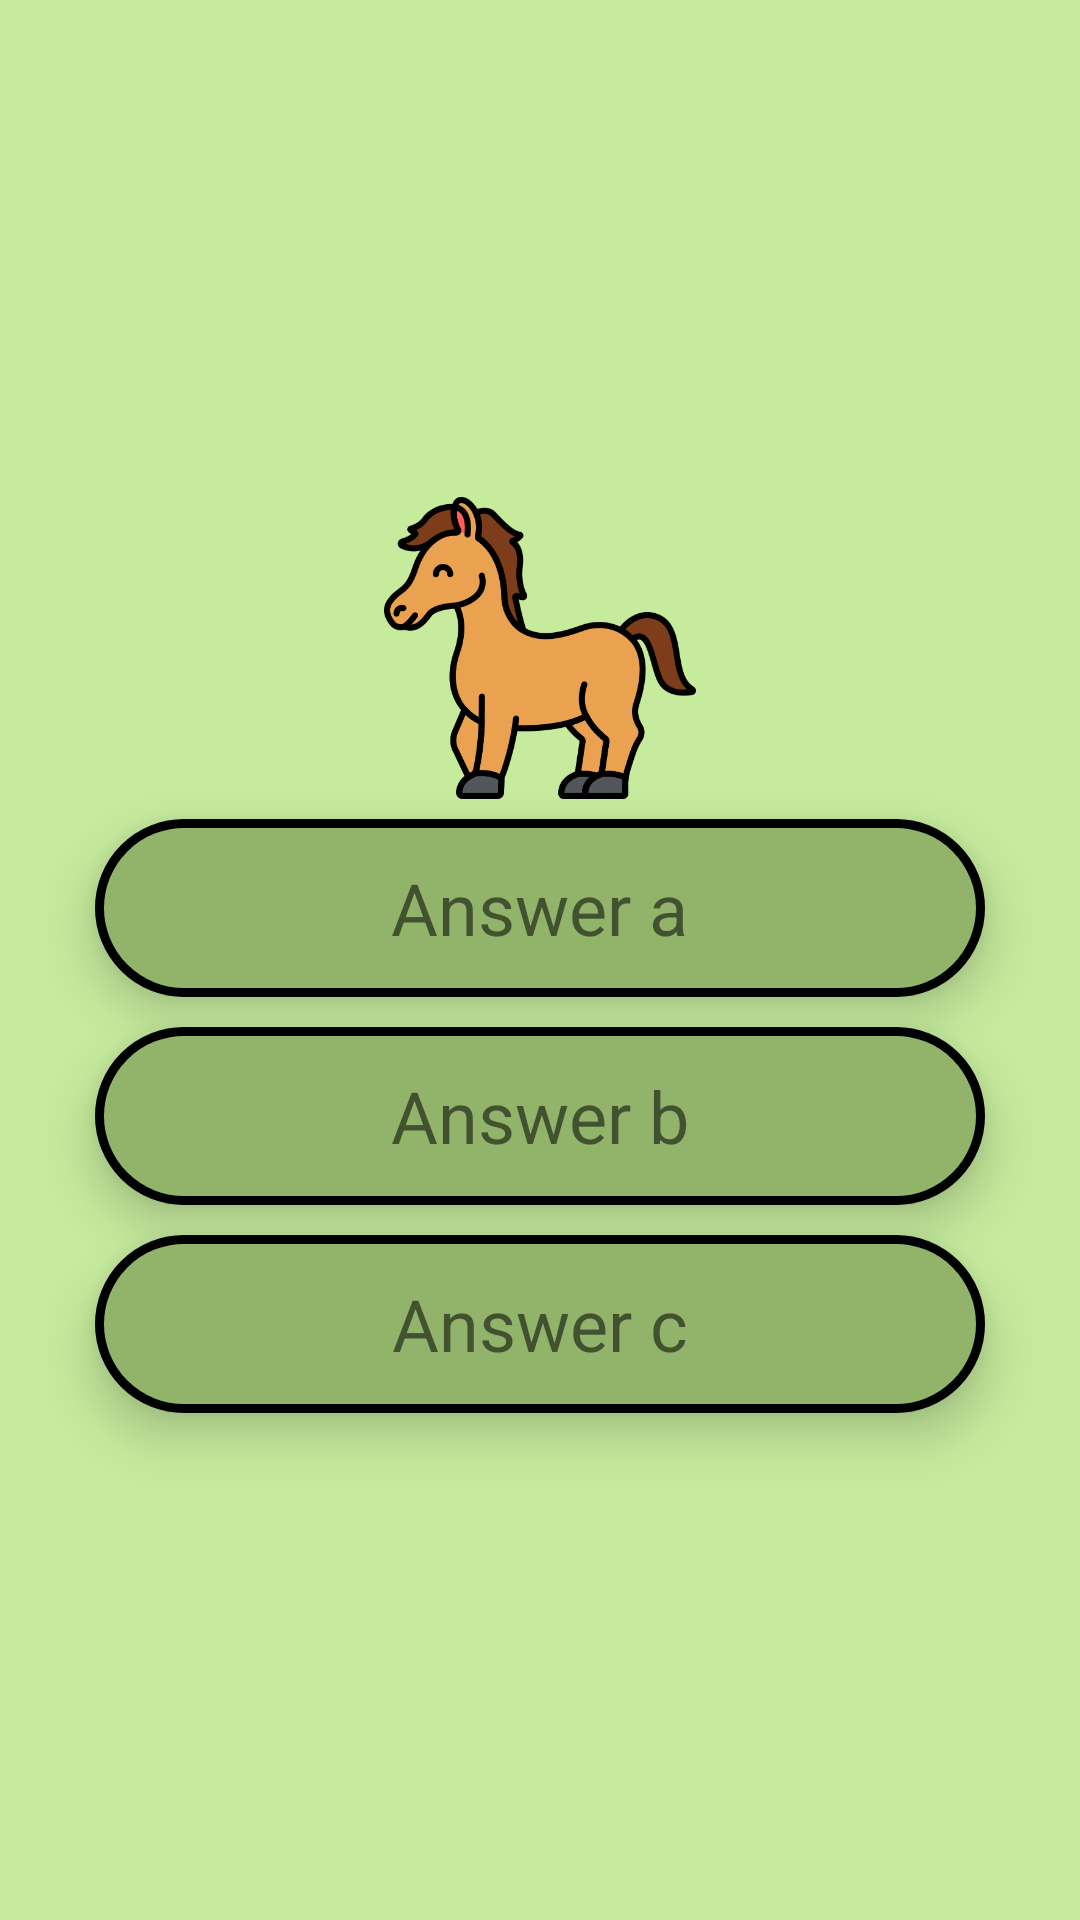

Screen size 1080×1920. Icon name, then its center in pixels as [x,y]:
caballo: [540,648]
